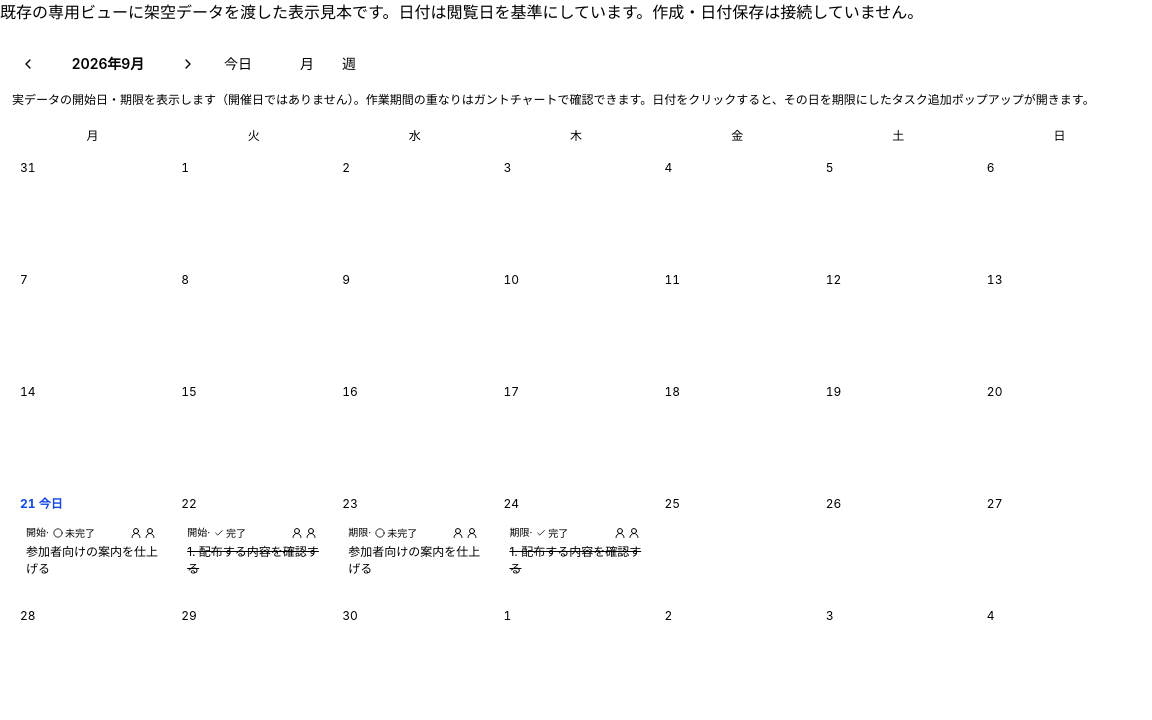
Scenario: additional isolated guide specimens › uses existing calendar period controls without mounting task creation
This screenshot has width=1152, height=720.
Click the button "週". click: (349, 64)
box: [330, 48, 368, 80]
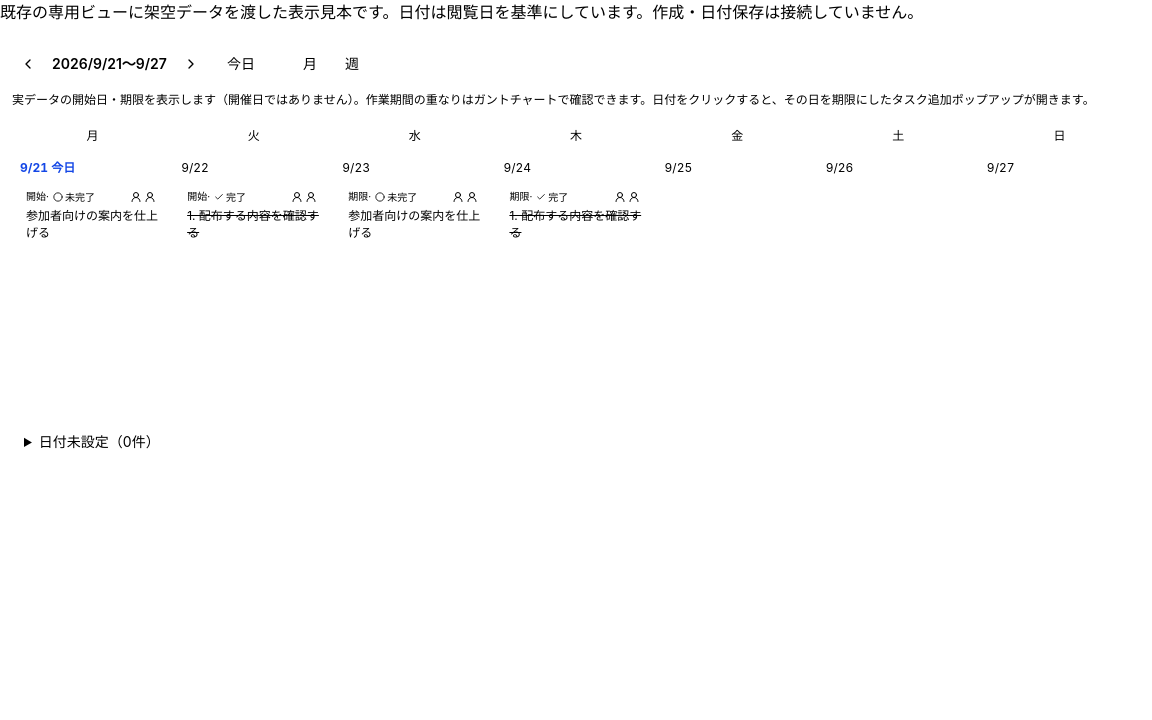
Expected: the button "開始 · 未完了 参加者向けの案内を仕上げる" is shown, [20, 184, 165, 245]
Now the button "週" is pressed, box [333, 48, 371, 80]
Click the button "開始 · 完了 1. 配布する内容を確認する". click: (254, 214)
box: [181, 184, 326, 245]
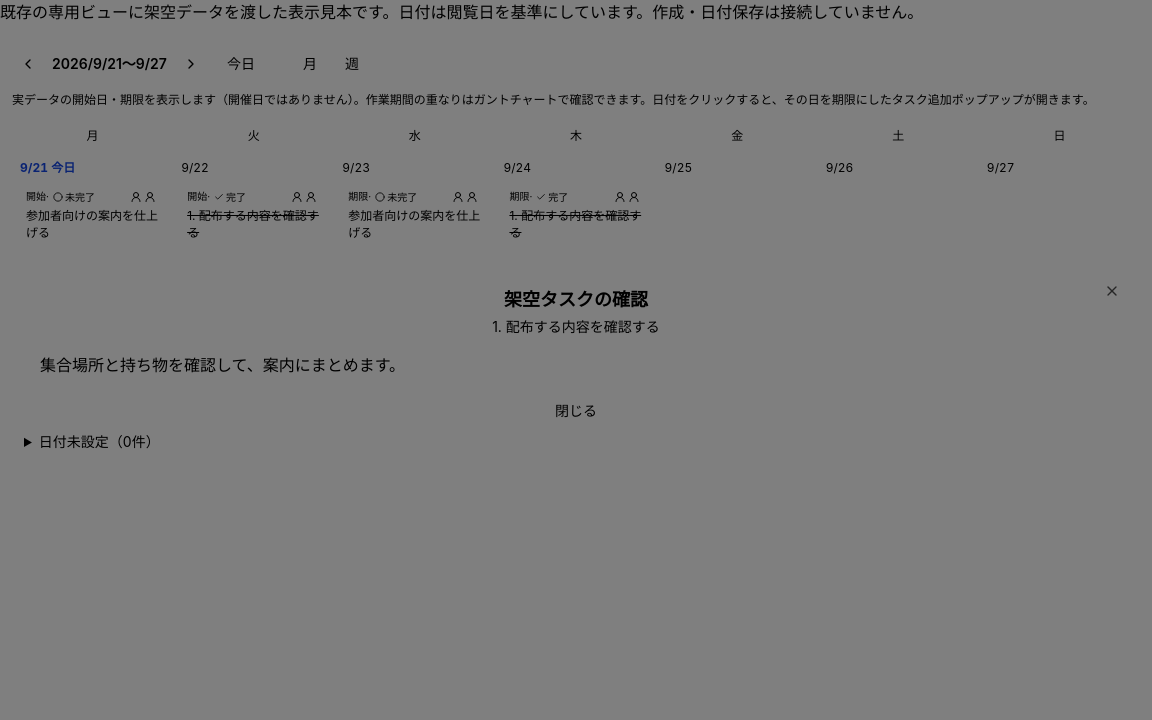
Now the dialog shows "架空タスクの確認", box [504, 289, 648, 310]
Click the button "閉じる". click: (576, 411)
box: [40, 393, 1112, 429]
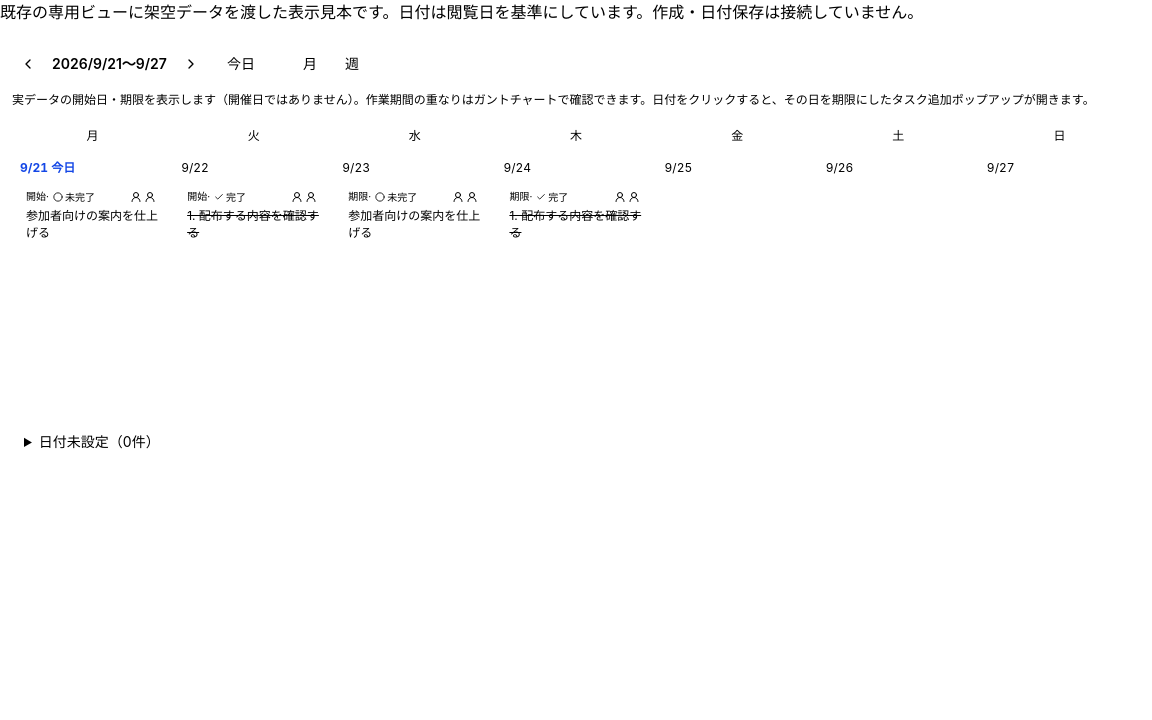
Click the button "開始 · 未完了 参加者向けの案内を仕上げる". click: (93, 214)
box: [20, 184, 165, 245]
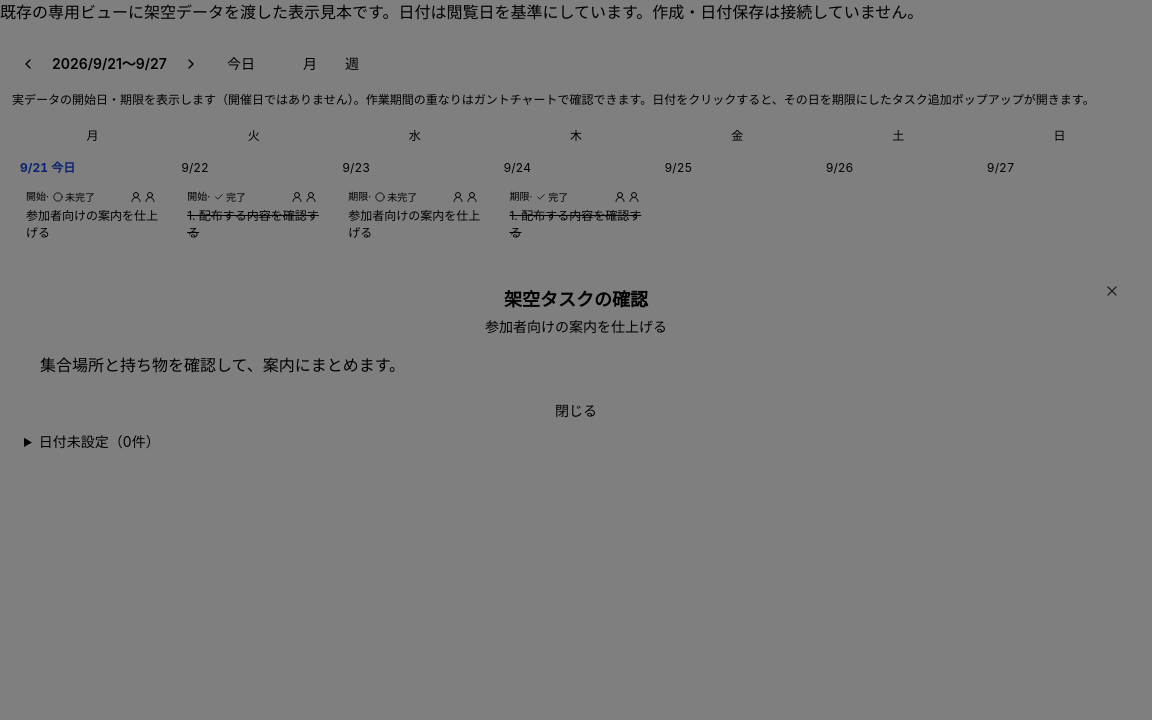
Now the dialog shows "架空タスクの確認", box [504, 289, 648, 310]
